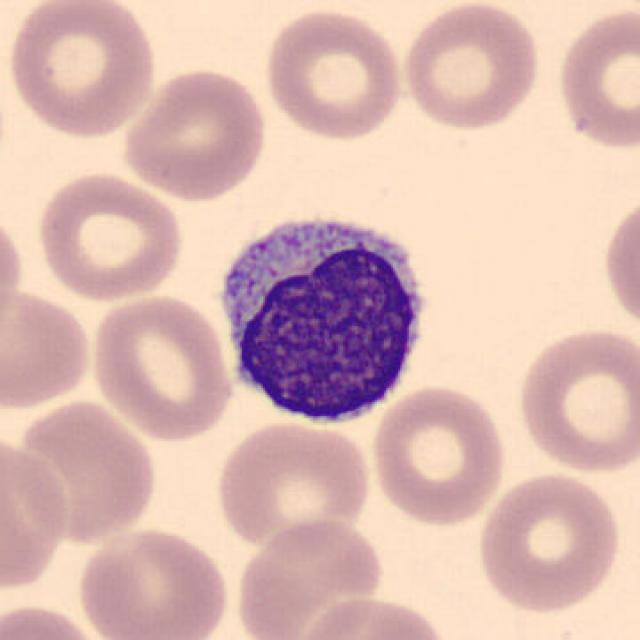Lymphocyte: (210, 201, 441, 432)
RBC: (87, 291, 237, 442), (474, 469, 626, 615), (11, 396, 160, 544), (4, 0, 160, 141), (212, 418, 375, 552), (117, 63, 270, 203), (32, 168, 187, 305), (368, 381, 510, 529), (260, 5, 407, 145), (396, 0, 544, 134), (512, 322, 638, 478), (231, 515, 388, 640), (73, 522, 233, 640), (0, 426, 75, 600), (553, 3, 638, 154), (0, 282, 96, 413), (288, 592, 453, 640), (599, 188, 640, 338), (0, 599, 108, 639), (0, 201, 27, 353)
